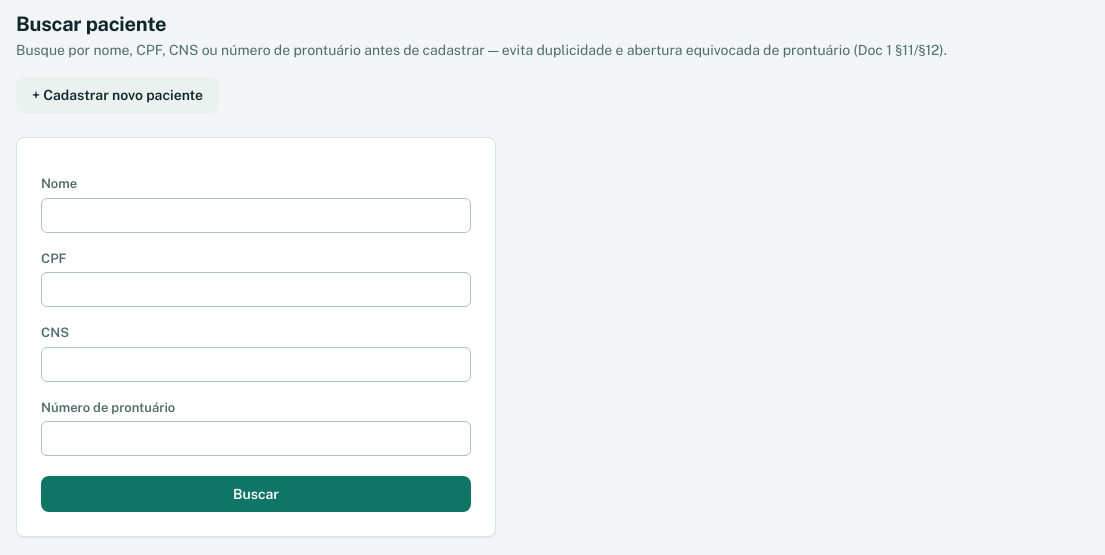
Test: PatientSearchPage › 17. erro 403 (sem permissão) mostra tela de acesso negado
The image size is (1105, 555).
Type "Maria" into the field labelled "Nome".
click(256, 215); type("Maria")  # box [41,198,471,232]
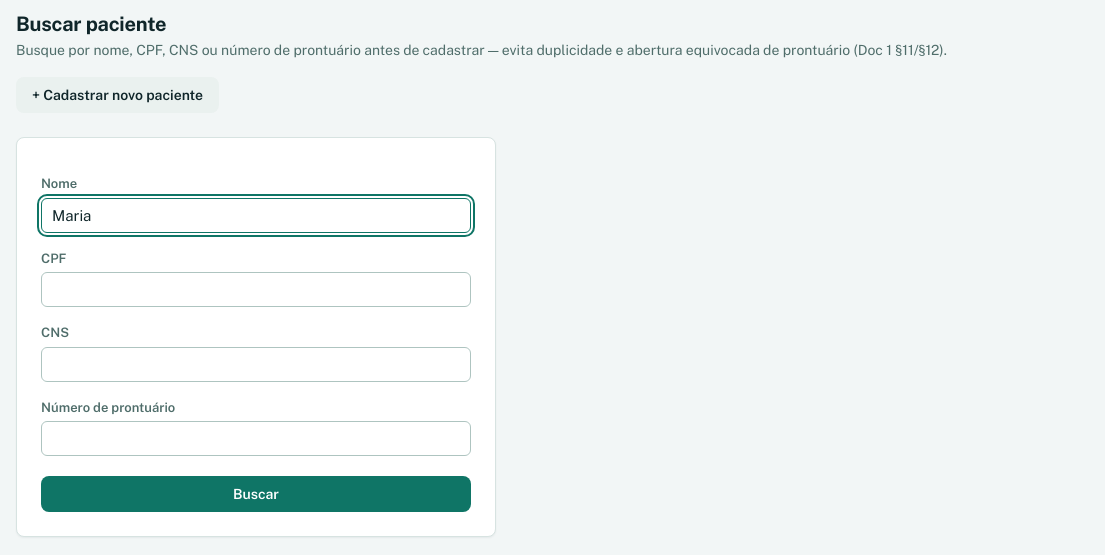
Click the button "Buscar".
click(256, 494)  # box [41,476,471,512]
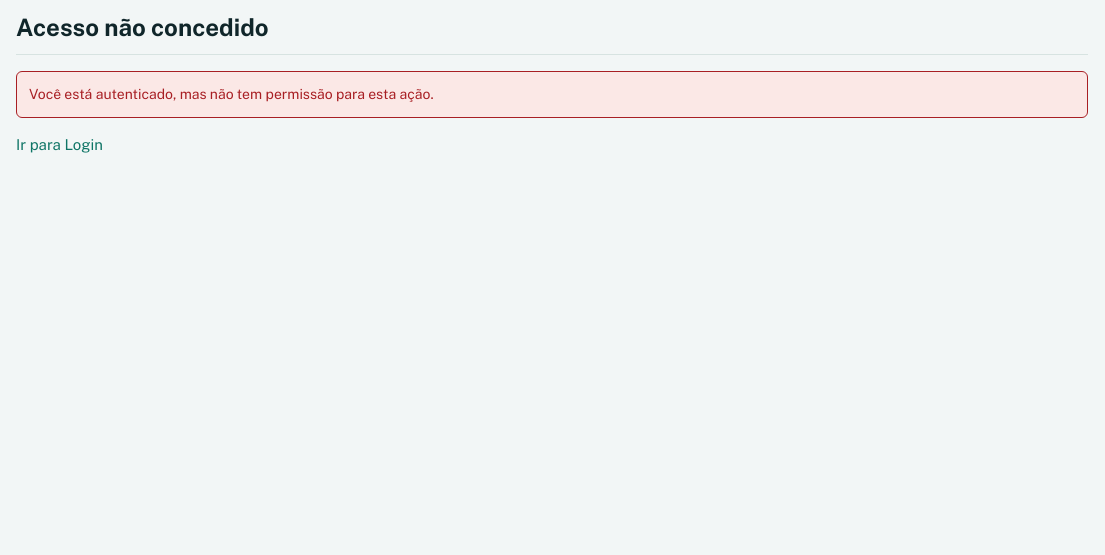
Now the text "Você está autenticado, mas não tem permissão para esta ação." is shown, box [16,71,1088,118]
